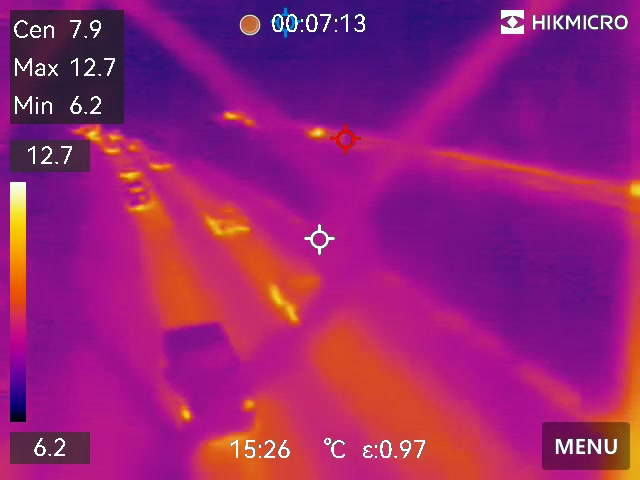vehicle: (154, 325, 267, 436), (198, 200, 257, 238)
